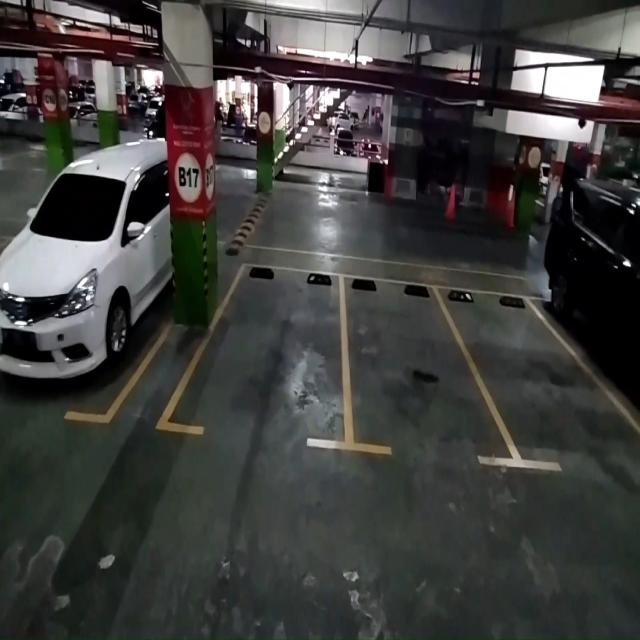empty: (185, 264, 345, 449), (453, 284, 592, 470), (345, 280, 453, 456)
occupied: (0, 182, 170, 420)
